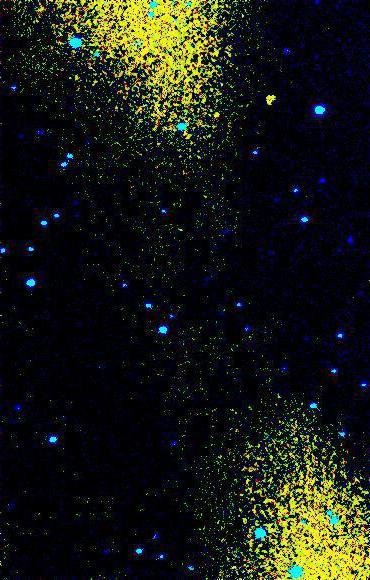star: (204, 99, 234, 129)
